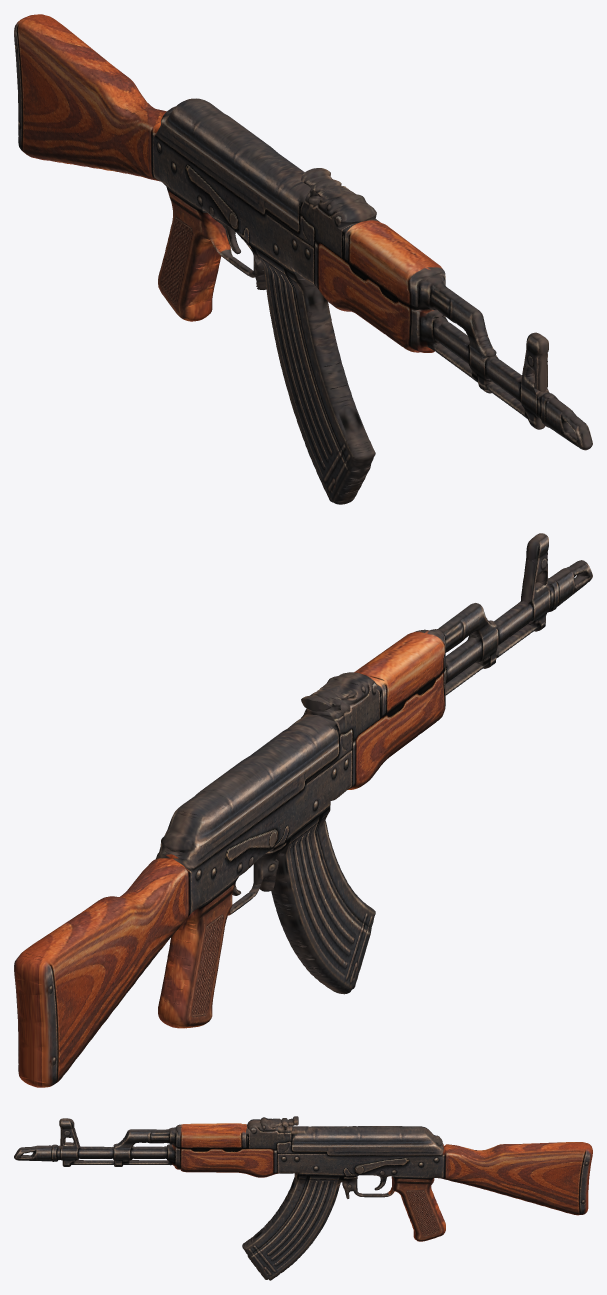
The model's file is akm-v1.glb.
The picture shows the model from 3 angles, top to bottom: view 1: azimuth 30°, elevation 25°; view 2: azimuth 150°, elevation 25°; view 3: azimuth 270°, elevation 25°; orthographic projection. The views are drawn at different scales.
Parts seen in each view (by area): view 1: HordeAKMv1_export; view 2: HordeAKMv1_export; view 3: HordeAKMv1_export.
Boxes of the visible parts, x1,y1,x2,y2 form: HordeAKMv1_export: [14, 14, 592, 504]; HordeAKMv1_export: [14, 533, 592, 1087]; HordeAKMv1_export: [14, 1116, 592, 1280].
Size of the model in its own units: 0.0174 by 0.1309 by 0.4251.
Materials: 1 (1 with a texture image).
